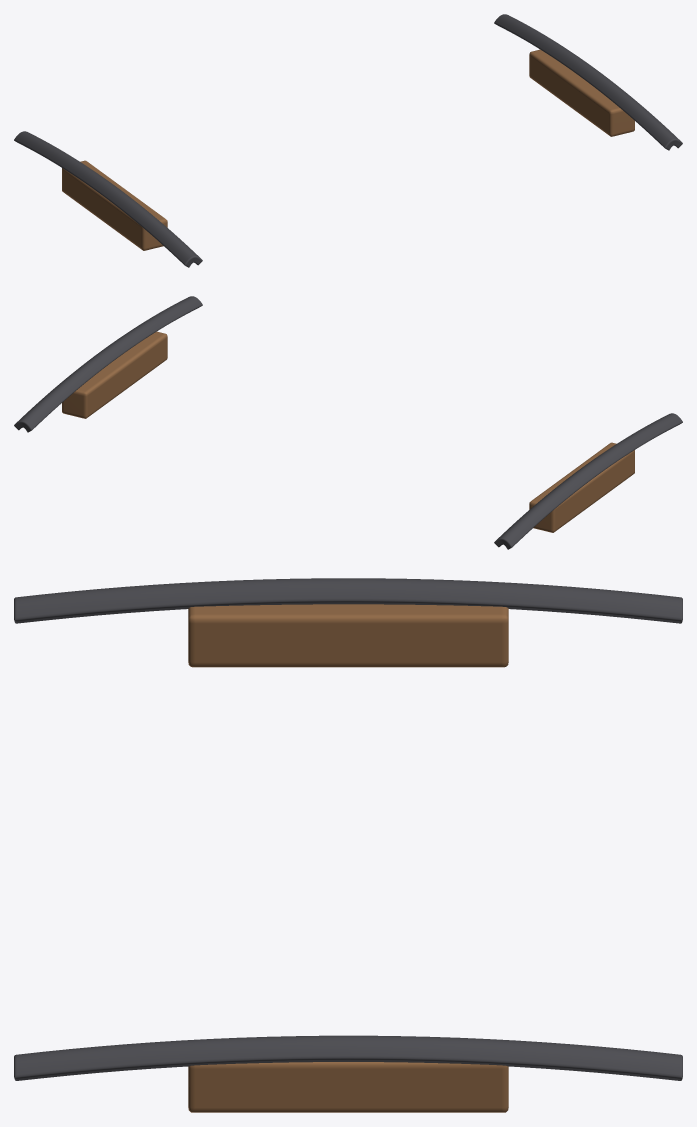
Rendered from door_panels.glb.
3 renders of one model, top to bottom at view 1: azimuth 30°, elevation 25°; view 2: azimuth 150°, elevation 25°; view 3: azimuth 270°, elevation 25°, orthographic. The views are drawn at different scales.
Parts seen in each view (by area): view 1: DOOR_ARMREST_L, DOOR_CARD_R, DOOR_CARD_L, DOOR_ARMREST_R; view 2: DOOR_ARMREST_L, DOOR_CARD_R, DOOR_CARD_L, DOOR_ARMREST_R; view 3: DOOR_ARMREST_R, DOOR_CARD_L, DOOR_CARD_R, DOOR_ARMREST_L.
Boxes of the visible parts, <box> form: DOOR_ARMREST_L: <box>529,49,634,136</box>; DOOR_CARD_R: <box>14,131,202,267</box>; DOOR_CARD_L: <box>494,14,682,150</box>; DOOR_ARMREST_R: <box>62,160,167,250</box>; DOOR_ARMREST_L: <box>62,331,167,418</box>; DOOR_CARD_R: <box>494,413,682,549</box>; DOOR_CARD_L: <box>14,296,202,432</box>; DOOR_ARMREST_R: <box>529,442,634,532</box>; DOOR_ARMREST_R: <box>188,604,508,667</box>; DOOR_CARD_L: <box>14,1035,682,1080</box>; DOOR_CARD_R: <box>14,578,682,623</box>; DOOR_ARMREST_L: <box>188,1062,508,1112</box>.
Size of the model in its own units: 1.58 by 0.11 by 0.9395.
